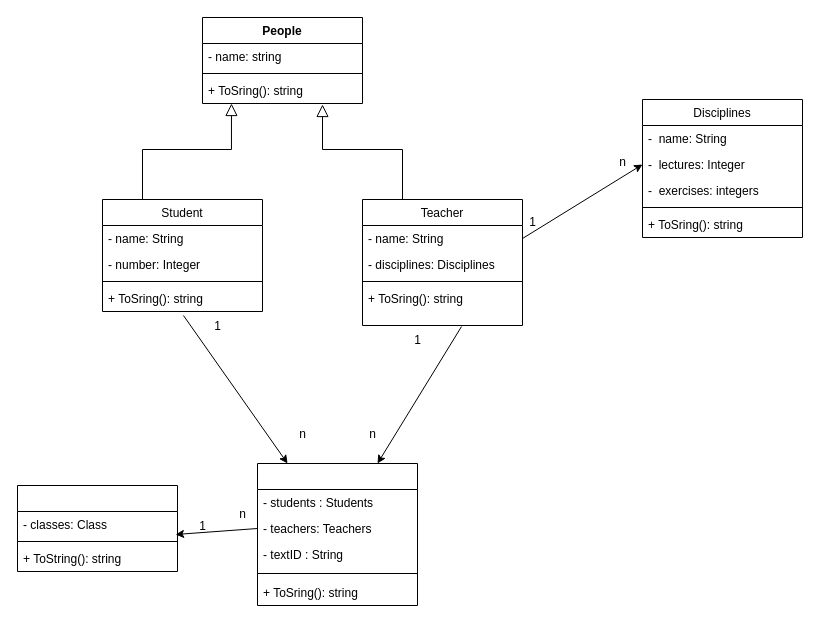
The diagram is 820 pixels wide and 626 high, and some of its shapes have lost their labels. Here are the shapes that lost their labels. From the top down, the box of each, then its label:
(16, 484, 178, 572): School
(256, 462, 418, 606): Class
